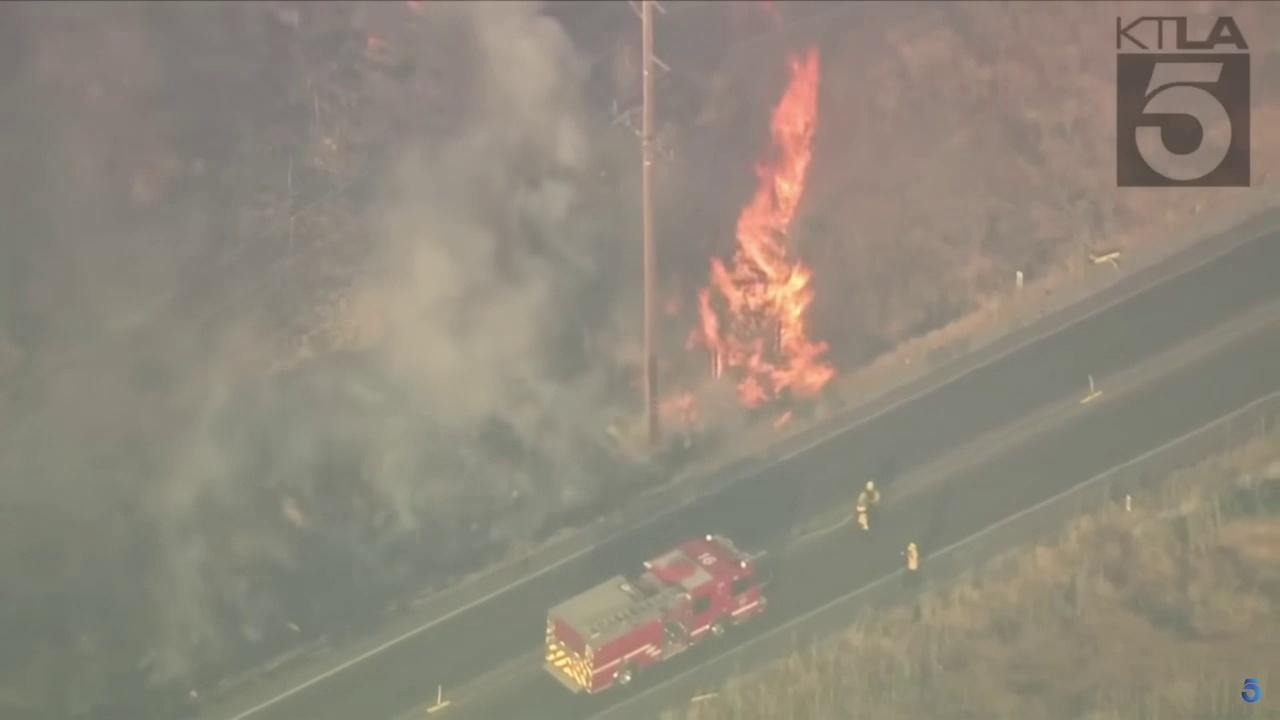fire: (658, 41, 839, 432)
smoke: (0, 0, 787, 720)
